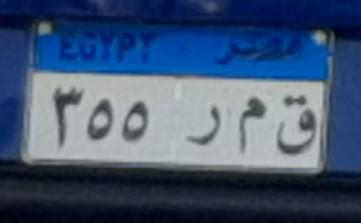3: (34, 76, 82, 151)
5: (111, 92, 149, 156), (92, 88, 113, 145)
ر: (190, 100, 222, 157)
ق: (269, 83, 321, 181)
م: (222, 71, 276, 159)
